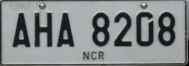character: (90, 11, 110, 46), (33, 11, 52, 47), (56, 11, 75, 47), (113, 11, 132, 47), (11, 12, 30, 47), (135, 11, 154, 46), (156, 11, 175, 46)
